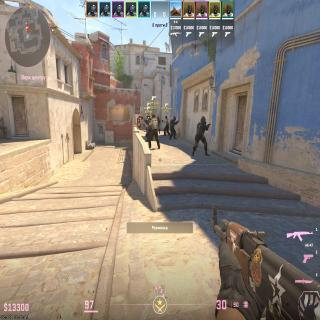CT-Body: (196, 115, 207, 155), (170, 116, 176, 138), (144, 114, 151, 125), (157, 116, 161, 133)
CT-Head: (200, 116, 206, 124), (174, 116, 176, 121), (158, 116, 160, 119), (147, 115, 149, 118)
T-Body: (150, 114, 158, 149), (165, 116, 169, 135)
T-Head: (152, 114, 155, 119), (165, 115, 168, 118)
